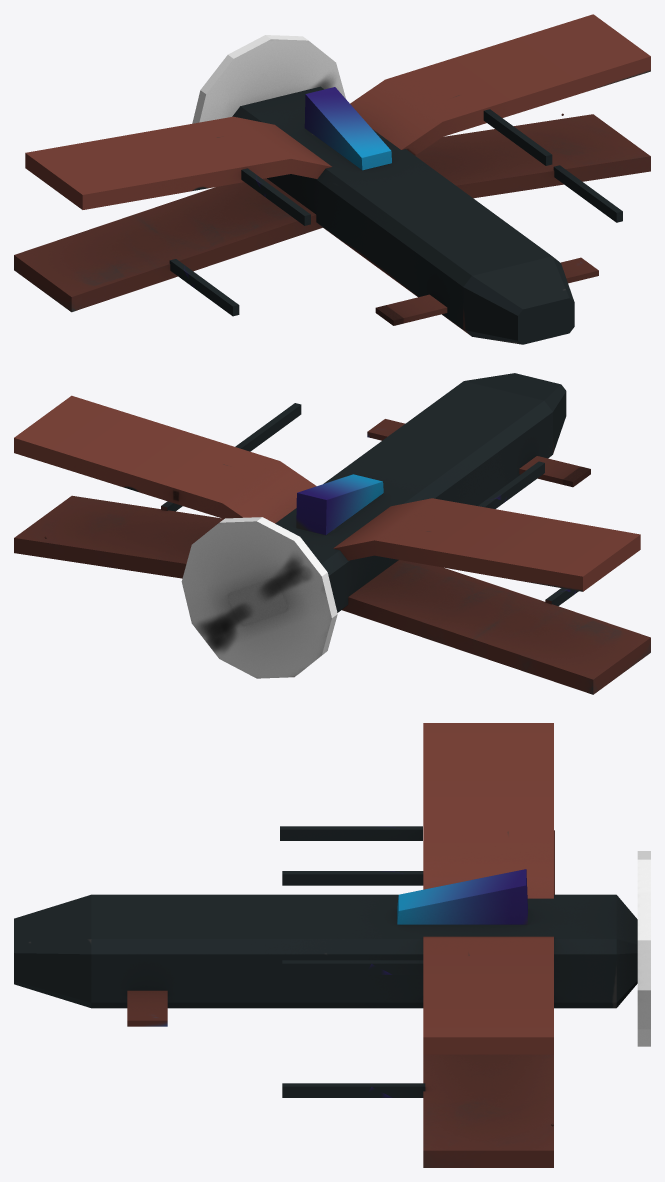
Rendered from DevastatorModel.fbx.
3 views of the same model, one above another, from view 1: azimuth 30°, elevation 25°; view 2: azimuth 150°, elevation 25°; view 3: azimuth 270°, elevation 25° (orthographic). The views are drawn at different scales.
Visible parts, largest first — view 1: SimpleDevastator1; view 2: SimpleDevastator1; view 3: SimpleDevastator1.
Part boxes in pixels (x1,y1,x2,y2): SimpleDevastator1: [14, 14, 650, 344]; SimpleDevastator1: [14, 373, 650, 694]; SimpleDevastator1: [14, 723, 650, 1167].
Size of the model in its own units: 573 by 149 by 482.
Materials: 1 (1 with a texture image).
